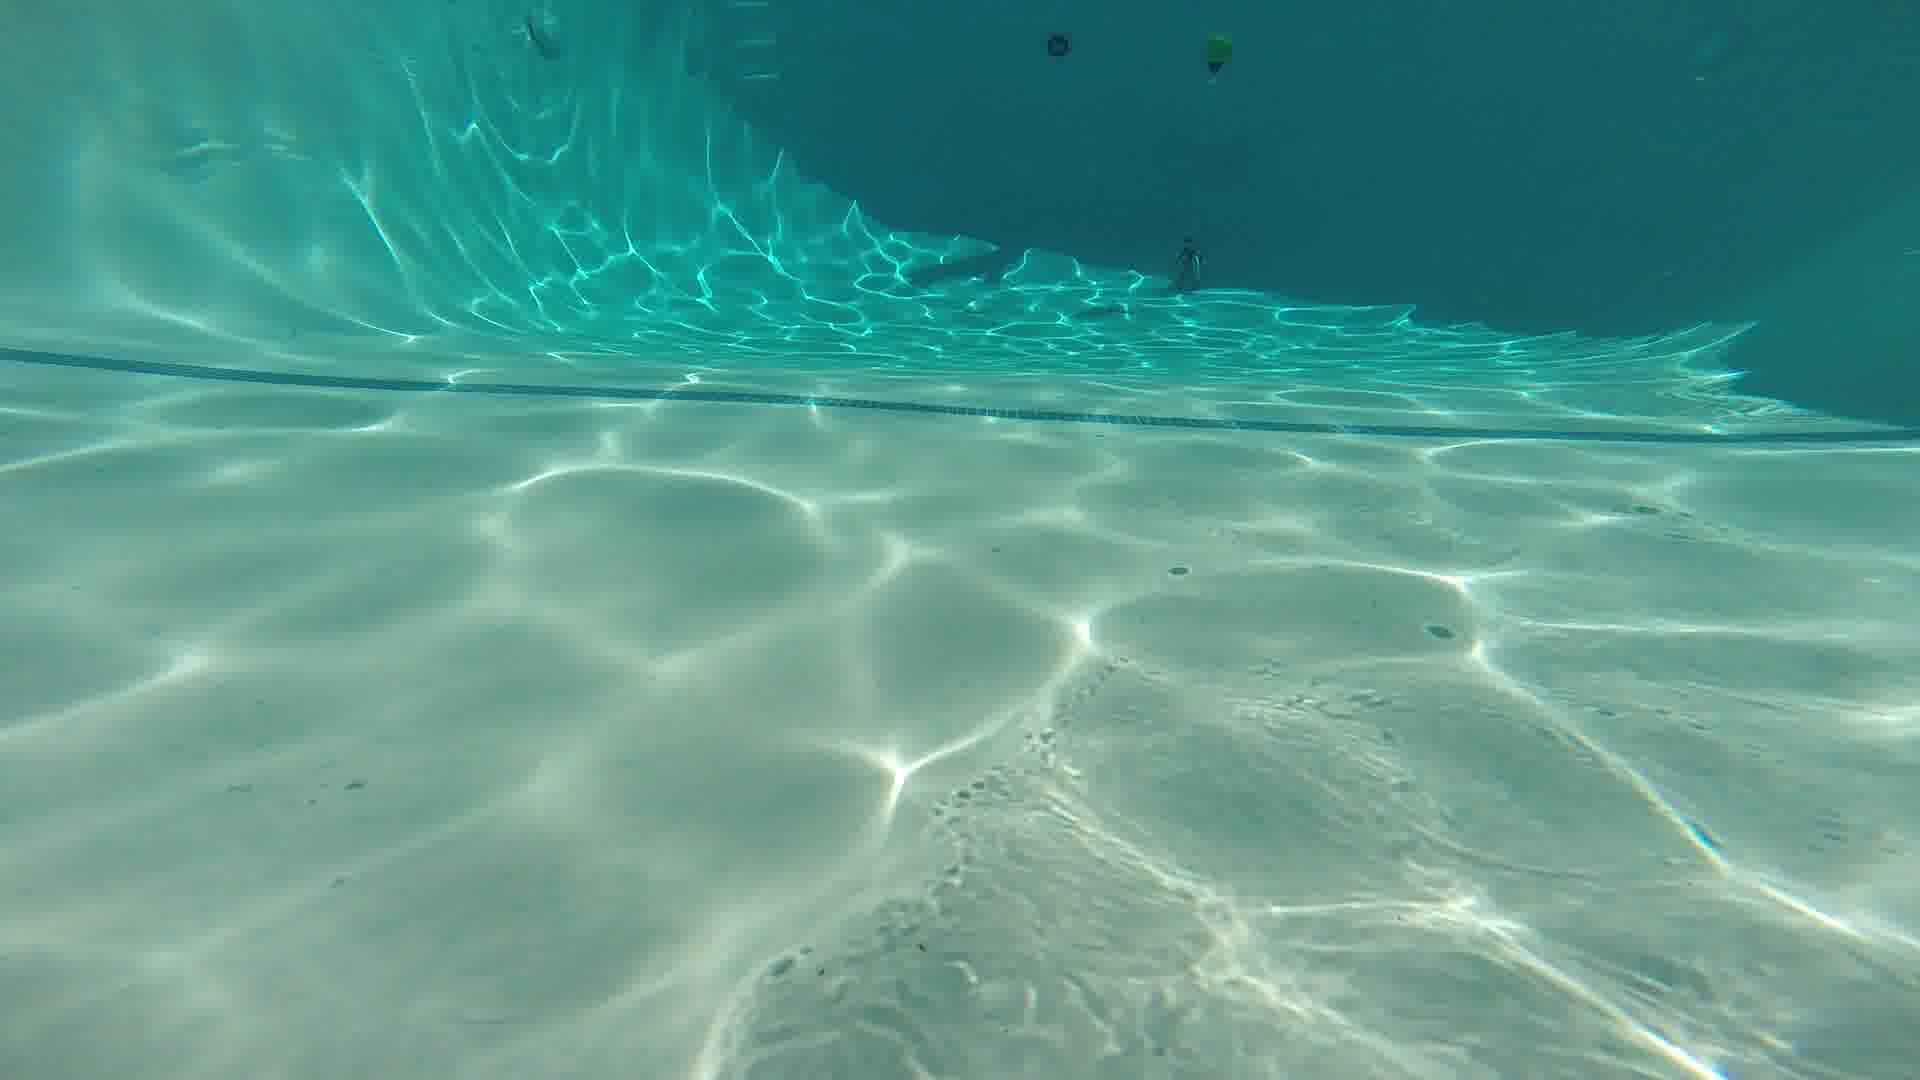yellow_buoy: (1204, 32, 1233, 79)
